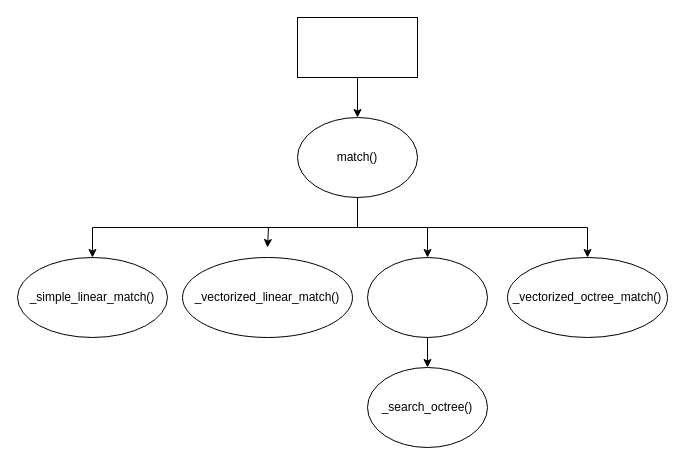
Some shapes in this 685 by 465 pixel diagram are drawn without their labels. Here are the shapes that lost their labels. From the top down, the centre of each, then its label:
At (x=357, y=47): "IterativeClosestPoint".
At (x=427, y=297): "_octree_match()".
